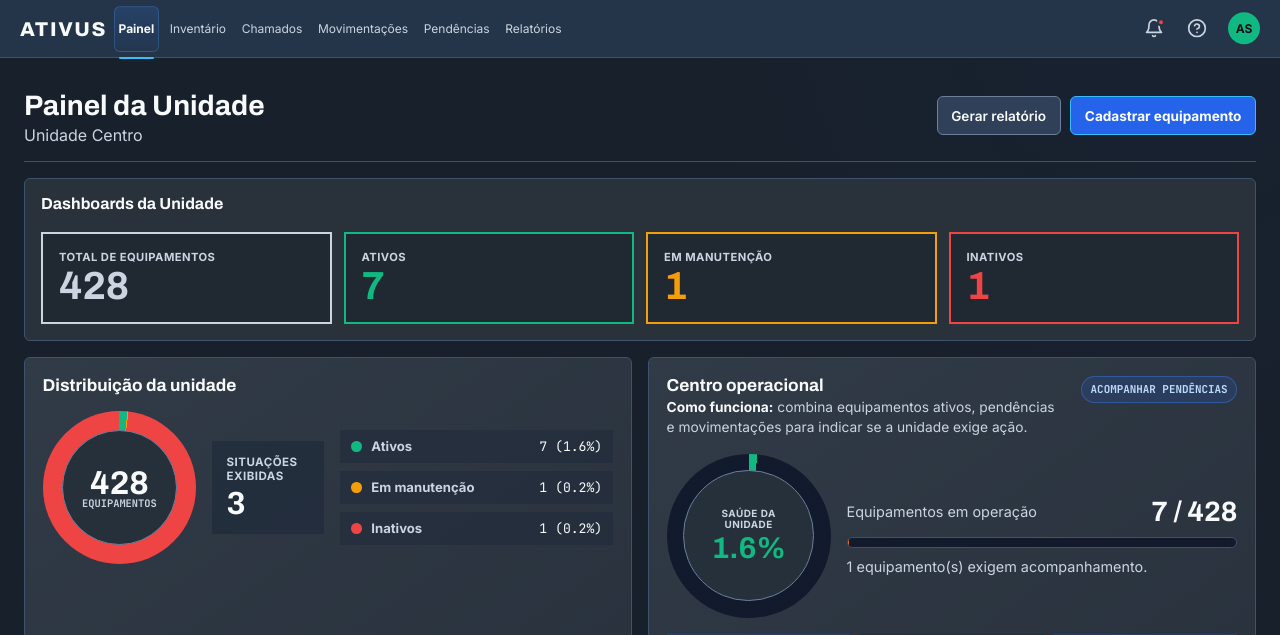
Scenario: navigates to the real Unit inventory page through the module link
The image size is (1280, 635).
Click the link "Inventário" at {"x": 198, "y": 29}, box [165,6,231,52]
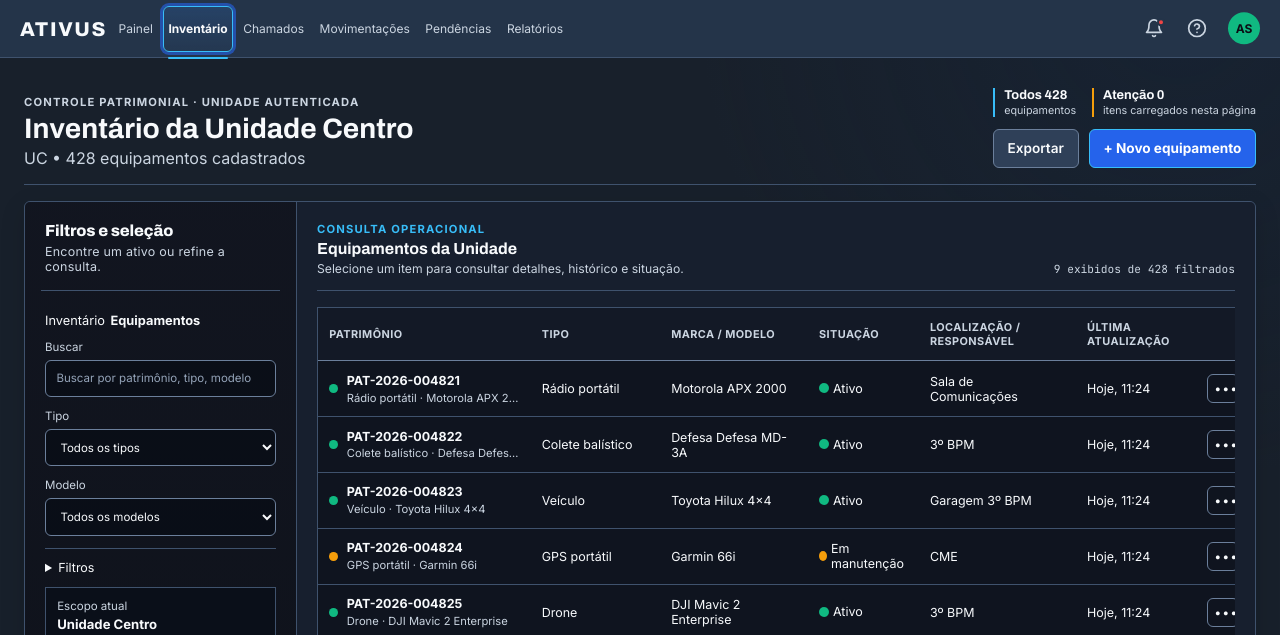
Result: the heading "Inventário da Unidade Centro" is shown at [24,113,414,144]
Result: the dropdown labelled "Tipo" is shown at [45,429,276,466]
